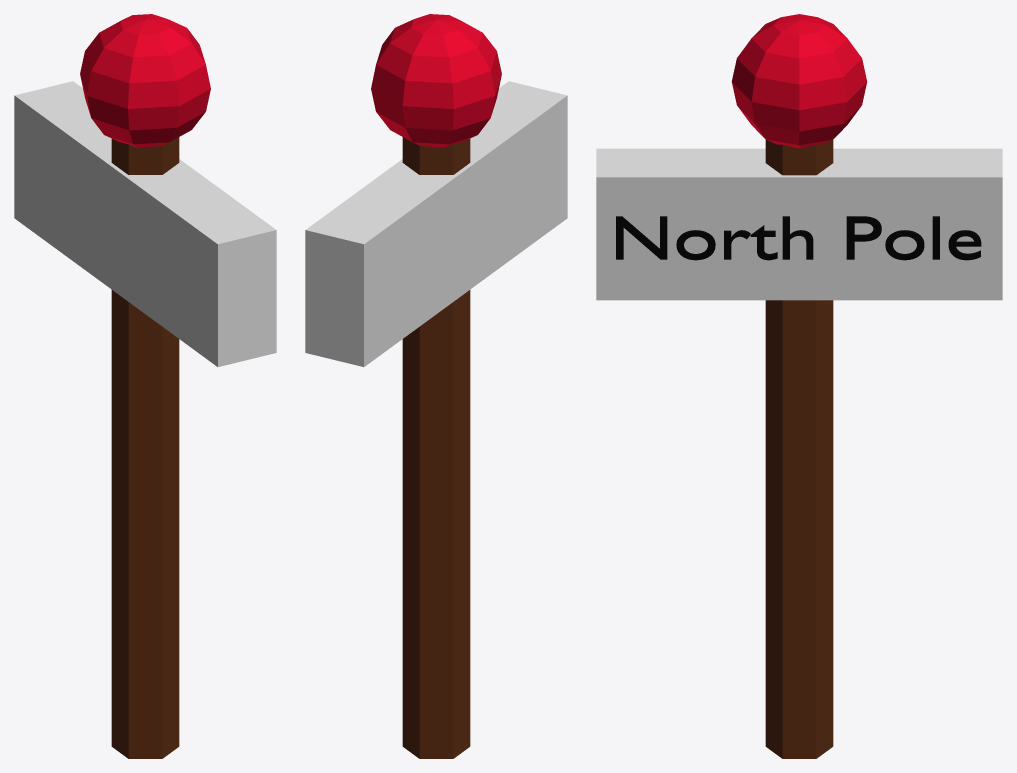
File: northpole.gltf
3 views of the same model, side by side, from view 1: azimuth 30°, elevation 25°; view 2: azimuth 150°, elevation 25°; view 3: azimuth 270°, elevation 25° (orthographic).
Parts seen in each view (by area): view 1: Cube.013, Cylinder.008, Sphere; view 2: Cube.013, Cylinder.008, Sphere; view 3: Cube.013, Cylinder.008, Sphere, Text.
Boxes of the visible parts, x1,y1,x2,y2 form: Cube.013: [14, 81, 276, 366]; Cylinder.008: [111, 137, 179, 758]; Sphere: [80, 14, 210, 147]; Cube.013: [305, 81, 567, 366]; Cylinder.008: [402, 137, 470, 758]; Sphere: [371, 14, 501, 147]; Cube.013: [596, 148, 1002, 300]; Cylinder.008: [765, 140, 833, 758]; Sphere: [731, 14, 867, 148]; Text: [616, 216, 981, 260].
Bounding box in the file's own units: 0.4 × 2.36 × 1.2.
